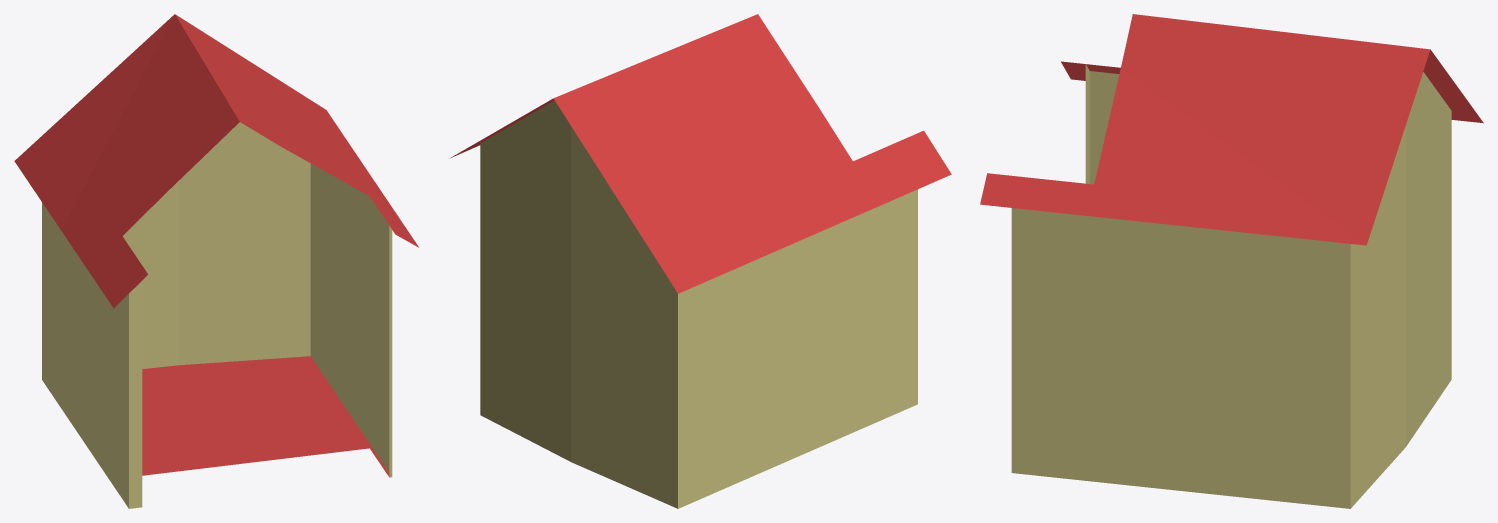
3 renders of one model, left to right at view 1: azimuth 30°, elevation 25°; view 2: azimuth 150°, elevation 25°; view 3: azimuth 270°, elevation 25°, orthographic. The views are drawn at different scales.
Size of the model in its own units: 13.25 by 14.55 by 12.79.
